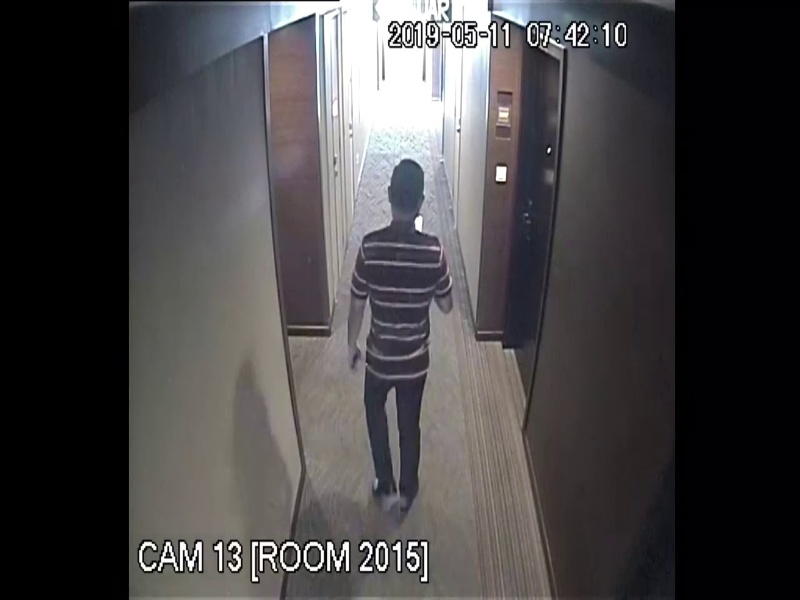person: (338, 155, 461, 510)
